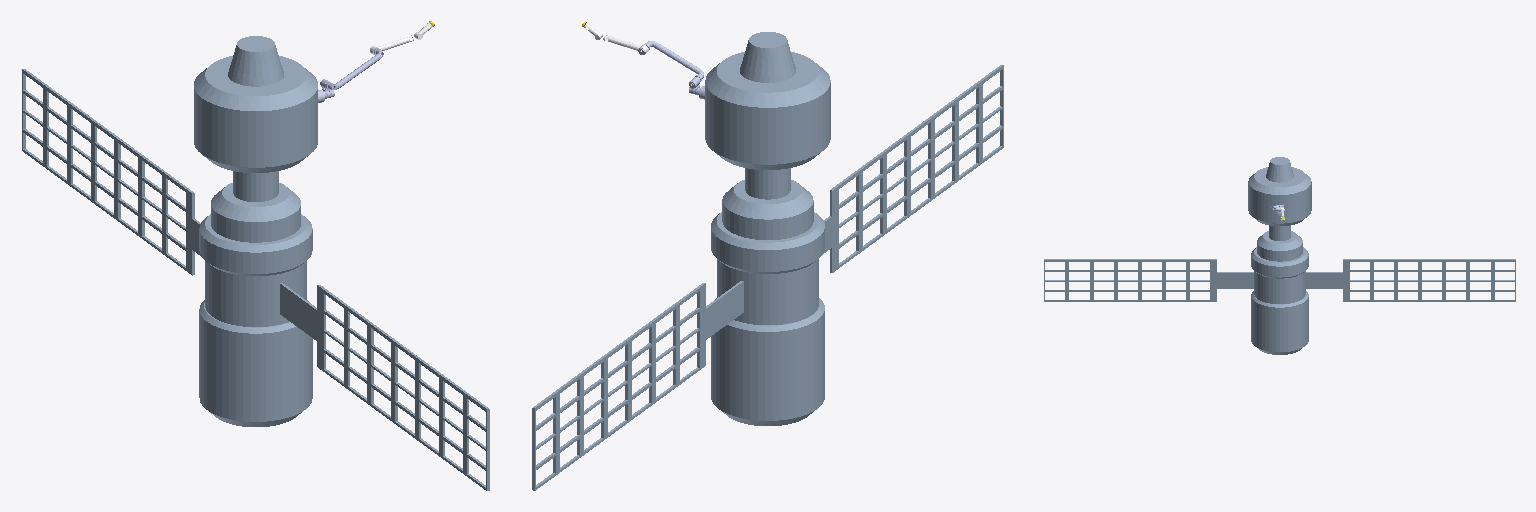
robot.urdf — satellite_2__starlink_sldasm9:
<?xml version='1.0' encoding='utf-8'?>
<robot name="satellite_2__starlink_sldasm9">
  <link name="base_link">
    <inertial>
      <origin xyz="0 0 -0.029031273" rpy="0 0 0" />
      <mass value="21.782594" />
      <inertia ixx="1.0564574" iyy="0.94781648" izz="0.2101786" ixy="0" ixz="2.310708e-13" iyz="-6.8461865e-12" />
    </inertial>
    <visual>
      <origin xyz="0 0 -0.355" rpy="0 0 0" />
      <geometry>
        <mesh filename="../satellites/satellite_2/meshes/part_001_solid_001.stl" scale="0.011 0.011 0.011" />
      </geometry>
      <material name="satellite_body_color">
        <color rgba="0.65 0.72 0.8 1" />
      </material>
    </visual>
    <collision>
      <origin xyz="0 0 -0.355" rpy="0 0 0" />
      <geometry>
        <mesh filename="../satellites/satellite_2/meshes/part_001_solid_001.stl" scale="0.011 0.011 0.011" />
      </geometry>
    </collision>
  </link>
  <link name="A_upper_plus_x_mount" />
  <joint name="satellite_mount_fixed" type="fixed">
    <parent link="base_link" />
    <child link="A_upper_plus_x_mount" />
    <origin xyz="1.21 0.0 6.0" rpy="-1.5707963267948966 0.0 -1.5707963267948966" />
  </joint>
  <link name="concept_mount_pad">
    <visual>
      <origin xyz="0 0 0.015" rpy="0 0 0" />
      <geometry>
        <box size="0.32 0.32 0.03" />
      </geometry>
      <material name="pad_grey">
        <color rgba="0.3 0.35 0.4 1" />
      </material>
    </visual>
    <collision>
      <origin xyz="0 0 0.015" rpy="0 0 0" />
      <geometry>
        <box size="0.32 0.32 0.03" />
      </geometry>
    </collision>
  </link>
  <joint name="pad_fixed" type="fixed">
    <parent link="A_upper_plus_x_mount" />
    <child link="concept_mount_pad" />
    <origin xyz="0 0 0" rpy="0 0 0" />
  </joint>
  <joint name="arm_adapter_fixed" type="fixed">
    <parent link="A_upper_plus_x_mount" />
    <child link="starlink_space_manipulator_base_link" />
    <origin xyz="0.009087204933166504 0.008519247174263 0.1500000020861624" rpy="-1.5707963267948966 0 0" />
  </joint>
  <link name="starlink_space_manipulator_base_link">
    <inertial>
      <origin xyz="-0.00908719924946466 0.0225428225681148 -0.00851924929637313" rpy="0 0 0" />
      <mass value="8.66024015898073" />
      <inertia ixx="0.0960303512697639" ixy="1.65511904636803E-18" ixz="6.22039820639877E-19" iyy="0.103454922260914" iyz="-9.68471289978311E-19" izz="0.0960303512697639" />
    </inertial>
    <visual>
      <origin xyz="0 0 0" rpy="0 0 0" />
      <geometry>
        <mesh filename="../arms/starlink_sldasm9/meshes/starlink_space_manipulator_base_link.STL" />
      </geometry>
      <material name="">
        <color rgba="0.792156862745098 0.819607843137255 0.933333333333333 1" />
      </material>
    </visual>
    <collision>
      <origin xyz="0 0 0" rpy="0 0 0" />
      <geometry>
        <mesh filename="../arms/starlink_sldasm9/meshes/starlink_space_manipulator_base_link.STL" />
      </geometry>
    </collision>
  </link>
  <link name="starlink_space_manipulator_Shoulder_link_1">
    <inertial>
      <origin xyz="-0.000399471745595769 -0.100006574194712 -0.17423940484461" rpy="0 0 0" />
      <mass value="5.16309216784981" />
      <inertia ixx="0.0524543852135592" ixy="0.00348154867667969" ixz="6.96526910910627E-05" iyy="0.0306595326318824" iyz="-0.00056674368052247" izz="0.0439979075615329" />
    </inertial>
    <visual>
      <origin xyz="0 0 0" rpy="0 0 0" />
      <geometry>
        <mesh filename="../arms/starlink_sldasm9/meshes/starlink_space_manipulator_Shoulder_link_1.STL" />
      </geometry>
      <material name="">
        <color rgba="0.792156862745098 0.819607843137255 0.933333333333333 1" />
      </material>
    </visual>
    <collision>
      <origin xyz="0 0 0" rpy="0 0 0" />
      <geometry>
        <mesh filename="../arms/starlink_sldasm9/meshes/starlink_space_manipulator_Shoulder_link_1.STL" />
      </geometry>
    </collision>
  </link>
  <joint name="starlink_space_manipulator_Shoulder_link_1_yaw" type="revolute">
    <origin xyz="-0.0090872 -0.065 -0.0085192" rpy="1.5708 -0.15574 3.1416" />
    <parent link="starlink_space_manipulator_base_link" />
    <child link="starlink_space_manipulator_Shoulder_link_1" />
    <axis xyz="0 0 -1" />
    <limit lower="-3.14" upper="3.14" effort="0" velocity="0" />
  </joint>
  <link name="starlink_space_manipulator_Upper_arm_Link_1">
    <inertial>
      <origin xyz="0.402106341472203 -0.696465272634528 -0.170177523085579" rpy="0 0 0" />
      <mass value="5.05309869040685" />
      <inertia ixx="0.388719013133801" ixy="0.210155896498943" ixz="9.30829370680679E-08" iyy="0.146049057575642" iyz="1.71830458004218E-07" izz="0.500677708275447" />
    </inertial>
    <visual>
      <origin xyz="0 0 0" rpy="0 0 0" />
      <geometry>
        <mesh filename="../arms/starlink_sldasm9/meshes/starlink_space_manipulator_Upper_arm_Link_1.STL" />
      </geometry>
      <material name="">
        <color rgba="0.792156862745098 0.819607843137255 0.933333333333333 1" />
      </material>
    </visual>
    <collision>
      <origin xyz="0 0 0" rpy="0 0 0" />
      <geometry>
        <mesh filename="../arms/starlink_sldasm9/meshes/starlink_space_manipulator_Upper_arm_Link_1.STL" />
      </geometry>
    </collision>
  </link>
  <joint name="starlink_space_manipulator_Upper_arm_Link_1_roll" type="revolute">
    <origin xyz="0 -0.2 -0.18" rpy="1.5708 0.90646 1.5708" />
    <parent link="starlink_space_manipulator_Shoulder_link_1" />
    <child link="starlink_space_manipulator_Upper_arm_Link_1" />
    <axis xyz="0 0 -1" />
    <limit lower="-2" upper="1.5" effort="0" velocity="0" />
  </joint>
  <link name="starlink_space_manipulator_Mid_arm_Link_1">
    <inertial>
      <origin xyz="-0.000406052776441013 0.317722269561105 0.0155331755135703" rpy="0 0 0" />
      <mass value="1.57635531881168" />
      <inertia ixx="0.133610363618846" ixy="5.33750993405138E-05" ixz="-3.60473795202962E-09" iyy="0.00502119434334708" iyz="-2.514275749911E-05" izz="0.134586018527477" />
    </inertial>
    <visual>
      <origin xyz="0 0 0" rpy="0 0 0" />
      <geometry>
        <mesh filename="../arms/starlink_sldasm9/meshes/starlink_space_manipulator_Mid_arm_Link_1.STL" />
      </geometry>
      <material name="">
        <color rgba="1 1 1 1" />
      </material>
    </visual>
    <collision>
      <origin xyz="0 0 0" rpy="0 0 0" />
      <geometry>
        <mesh filename="../arms/starlink_sldasm9/meshes/starlink_space_manipulator_Mid_arm_Link_1.STL" />
      </geometry>
    </collision>
  </link>
  <joint name="starlink_space_manipulator_Mid_arm_Link_1_roll" type="revolute">
    <origin xyz="0.599999999999673 -1.03923048454122 0" rpy="-3.14159265358979 0 0.828250280535091" />
    <parent link="starlink_space_manipulator_Upper_arm_Link_1" />
    <child link="starlink_space_manipulator_Mid_arm_Link_1" />
    <axis xyz="0 0 -1" />
    <limit lower="-3.14" upper="3.14" effort="0" velocity="0" />
  </joint>
  <link name="starlink_space_manipulator_Upper_wrist_Link_1">
    <inertial>
      <origin xyz="-0.000400003664721815 -0.201565878030355 -0.00216705855311664" rpy="0 0 0" />
      <mass value="0.994770641034713" />
      <inertia ixx="0.00165409639029414" ixy="-7.59103925411082E-06" ixz="-3.17403155320863E-06" iyy="0.00201437937768072" iyz="2.63246464091218E-06" izz="0.00159638838344539" />
    </inertial>
    <visual>
      <origin xyz="0 0 0" rpy="0 0 0" />
      <geometry>
        <mesh filename="../arms/starlink_sldasm9/meshes/starlink_space_manipulator_Upper_wrist_Link_1.STL" />
      </geometry>
      <material name="">
        <color rgba="0.792156862745098 0.819607843137255 0.933333333333333 1" />
      </material>
    </visual>
    <collision>
      <origin xyz="0 0 0" rpy="0 0 0" />
      <geometry>
        <mesh filename="../arms/starlink_sldasm9/meshes/starlink_space_manipulator_Upper_wrist_Link_1.STL" />
      </geometry>
    </collision>
  </link>
  <joint name="starlink_space_manipulator_Upper_wrist_Link_1_yaw" type="revolute">
    <origin xyz="-0.00050155183276912 0.686793643713439 0.0155010481432086" rpy="0 -0.0763876794035917 3.14159265358979" />
    <parent link="starlink_space_manipulator_Mid_arm_Link_1" />
    <child link="starlink_space_manipulator_Upper_wrist_Link_1" />
    <axis xyz="0 -1 0" />
    <limit lower="-3.14" upper="3.14" effort="0" velocity="0" />
  </joint>
  <link name="starlink_space_manipulator_Upper_wrist_Link_2">
    <inertial>
      <origin xyz="8.45304168883843E-08 0.0848318719623631 -0.00515657391755576" rpy="0 0 0" />
      <mass value="1.03716823037577" />
      <inertia ixx="0.0100970561498589" ixy="1.32295633551837E-09" ixz="-9.43675929999229E-09" iyy="0.00222325407426665" iyz="-2.08772874866187E-06" izz="0.0105840577017538" />
    </inertial>
    <visual>
      <origin xyz="0 0 0" rpy="0 0 0" />
      <geometry>
        <mesh filename="../arms/starlink_sldasm9/meshes/starlink_space_manipulator_Upper_wrist_Link_2.STL" />
      </geometry>
      <material name="">
        <color rgba="1 1 1 1" />
      </material>
    </visual>
    <collision>
      <origin xyz="0 0 0" rpy="0 0 0" />
      <geometry>
        <mesh filename="../arms/starlink_sldasm9/meshes/starlink_space_manipulator_Upper_wrist_Link_2.STL" />
      </geometry>
    </collision>
  </link>
  <joint name="starlink_space_manipulator_Upper_wrist_Link_2_roll" type="revolute">
    <origin xyz="0 -0.30020635628656 0" rpy="-0.0158640776811277 -0.0317448426184613 -2.67805461574742" />
    <parent link="starlink_space_manipulator_Upper_wrist_Link_1" />
    <child link="starlink_space_manipulator_Upper_wrist_Link_2" />
    <axis xyz="0 0 1" />
    <limit lower="-2.5" upper="1.8" effort="0" velocity="0" />
  </joint>
  <link name="starlink__space_manipulator_2F-Body_Link">
    </link>
  <joint name="starlink__space_manipulator_2F-Body_Link_yaw" type="revolute">
    <origin xyz="0 0.34845 -0.0053813" rpy="-3.1416 0.93592 0" />
    <parent link="starlink_space_manipulator_Upper_wrist_Link_2" />
    <child link="starlink__space_manipulator_2F-Body_Link" />
    <axis xyz="0 -1 0" />
    <limit lower="-3.14" upper="3.14" effort="0" velocity="0" />
  </joint>
  <link name="angular_hand">
    <visual>
      <geometry>
        <mesh filename="../arms/starlink_sldasm9/meshes/hand_2finger.STL" scale="2 2 2" />
      </geometry>
    </visual>
    <collision>
      <geometry>
        <mesh filename="../arms/starlink_sldasm9/meshes/hand_2finger.STL" scale="2 2 2" />
      </geometry>
    </collision>
  </link>
  <joint name="angular_hand_fixed" type="fixed">
    <parent link="starlink__space_manipulator_2F-Body_Link" />
    <child link="angular_hand" />
    <origin xyz="0 -0.036 0" rpy="-1.5707963267948966 0 0" />
  </joint>
  <link name="angular_adapter">
    <visual>
      <geometry>
        <mesh filename="../arms/starlink_sldasm9/meshes/angular_adapter.stl" />
      </geometry>
    </visual>
    <collision>
      <geometry>
        <mesh filename="../arms/starlink_sldasm9/meshes/angular_adapter.stl" />
      </geometry>
    </collision>
  </link>
  <joint name="angular_adapter_fixed" type="fixed">
    <parent link="starlink__space_manipulator_2F-Body_Link" />
    <child link="angular_adapter" />
    <origin xyz="0 -0.0005 0" rpy="1.5707963267948966 0 0" />
  </joint>
  <link name="angular_finger_1">
    <visual>
      <geometry>
        <mesh filename="../arms/starlink_sldasm9/meshes/finger_proximal.STL" scale="2 2 2" />
      </geometry>
    </visual>
    <collision>
      <geometry>
        <mesh filename="../arms/starlink_sldasm9/meshes/finger_proximal.STL" scale="2 2 2" />
      </geometry>
    </collision>
  </link>
  <link name="angular_tip_1">
    <visual>
      <geometry>
        <mesh filename="../arms/starlink_sldasm9/meshes/finger_distal.STL" scale="2 2 2" />
      </geometry>
    </visual>
    <collision>
      <geometry>
        <mesh filename="../arms/starlink_sldasm9/meshes/finger_distal.STL" scale="2 2 2" />
      </geometry>
    </collision>
  </link>
  <joint name="angular_joint_1" type="revolute">
    <parent link="angular_hand" />
    <child link="angular_finger_1" />
    <axis xyz="0 0 1" />
    <origin xyz="-0.005 0.0619 -0.22964" rpy="-1.570796327 .649262481663582 1.5707963267948966" />
    <limit lower="0" upper="1.51" effort="2" velocity="1" />
  </joint>
  <joint name="angular_joint_tip_1" type="revolute">
    <parent link="angular_finger_1" />
    <child link="angular_tip_1" />
    <axis xyz="0 0 1" />
    <origin xyz="0.088 -0.006 0.0" rpy="0 0 0" />
    <limit lower="0" upper="2" effort="2" velocity="1" />
  </joint>
  <link name="angular_finger_2">
    <visual>
      <geometry>
        <mesh filename="../arms/starlink_sldasm9/meshes/finger_proximal.STL" scale="2 2 2" />
      </geometry>
    </visual>
    <collision>
      <geometry>
        <mesh filename="../arms/starlink_sldasm9/meshes/finger_proximal.STL" scale="2 2 2" />
      </geometry>
    </collision>
  </link>
  <link name="angular_tip_2">
    <visual>
      <geometry>
        <mesh filename="../arms/starlink_sldasm9/meshes/finger_distal.STL" scale="2 2 2" />
      </geometry>
    </visual>
    <collision>
      <geometry>
        <mesh filename="../arms/starlink_sldasm9/meshes/finger_distal.STL" scale="2 2 2" />
      </geometry>
    </collision>
  </link>
  <joint name="angular_joint_2" type="revolute">
    <parent link="angular_hand" />
    <child link="angular_finger_2" />
    <axis xyz="0 0 1" />
    <origin xyz="-0.005 -0.0619 -0.22964" rpy="-1.570796327 .649262481663582 -1.5707963267948966" />
    <limit lower="0" upper="1.51" effort="2" velocity="1" />
  </joint>
  <joint name="angular_joint_tip_2" type="revolute">
    <parent link="angular_finger_2" />
    <child link="angular_tip_2" />
    <axis xyz="0 0 1" />
    <origin xyz="0.088 -0.006 0.0" rpy="0 0 0" />
    <limit lower="0" upper="2" effort="2" velocity="1" />
  </joint>
  <link name="angular_tcp" />
  <joint name="angular_tcp_fixed" type="fixed">
    <parent link="angular_hand" />
    <child link="angular_tcp" />
    <origin xyz="-0.005 0 -0.34" rpy="3.141592653589793 0 0" />
  </joint>
</robot>

--- Render facts (derived) ---
Views: 3 orthographic renders of the robot side by side, from view 1: azimuth 30°, elevation 25°; view 2: azimuth 150°, elevation 25°; view 3: azimuth 270°, elevation 25°.
Robot: satellite_2__starlink_sldasm9 — 17 links, 16 joints (10 revolute, 6 fixed); root link base_link; default pose: all joints at 0.
Visible links, largest first — view 1: base_link; view 2: base_link; view 3: base_link.
Link boxes in pixels (left/top/right/bottom): base_link: left=22, top=36, right=489, bottom=490; base_link: left=532, top=32, right=1003, bottom=490; base_link: left=1044, top=157, right=1515, bottom=354.
Bounding box of the posed robot: 5.27 × 18.06 × 7.81 m (x, y, z).
7 mesh visuals loaded from 11 distinct referenced files (7 binary STL); not drawn: 6 (reference not matched to a file when rendering).
